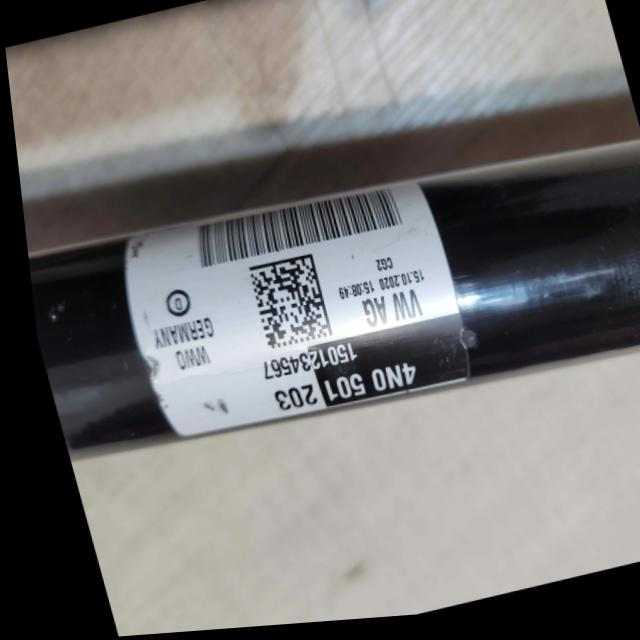datamatrix: (240, 257, 326, 354)
